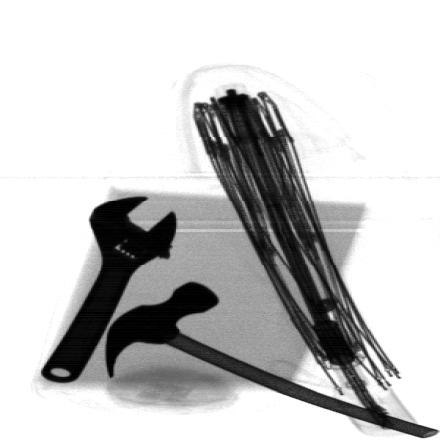Hammer: (103, 280, 439, 438)
Wrench: (39, 194, 176, 383)
